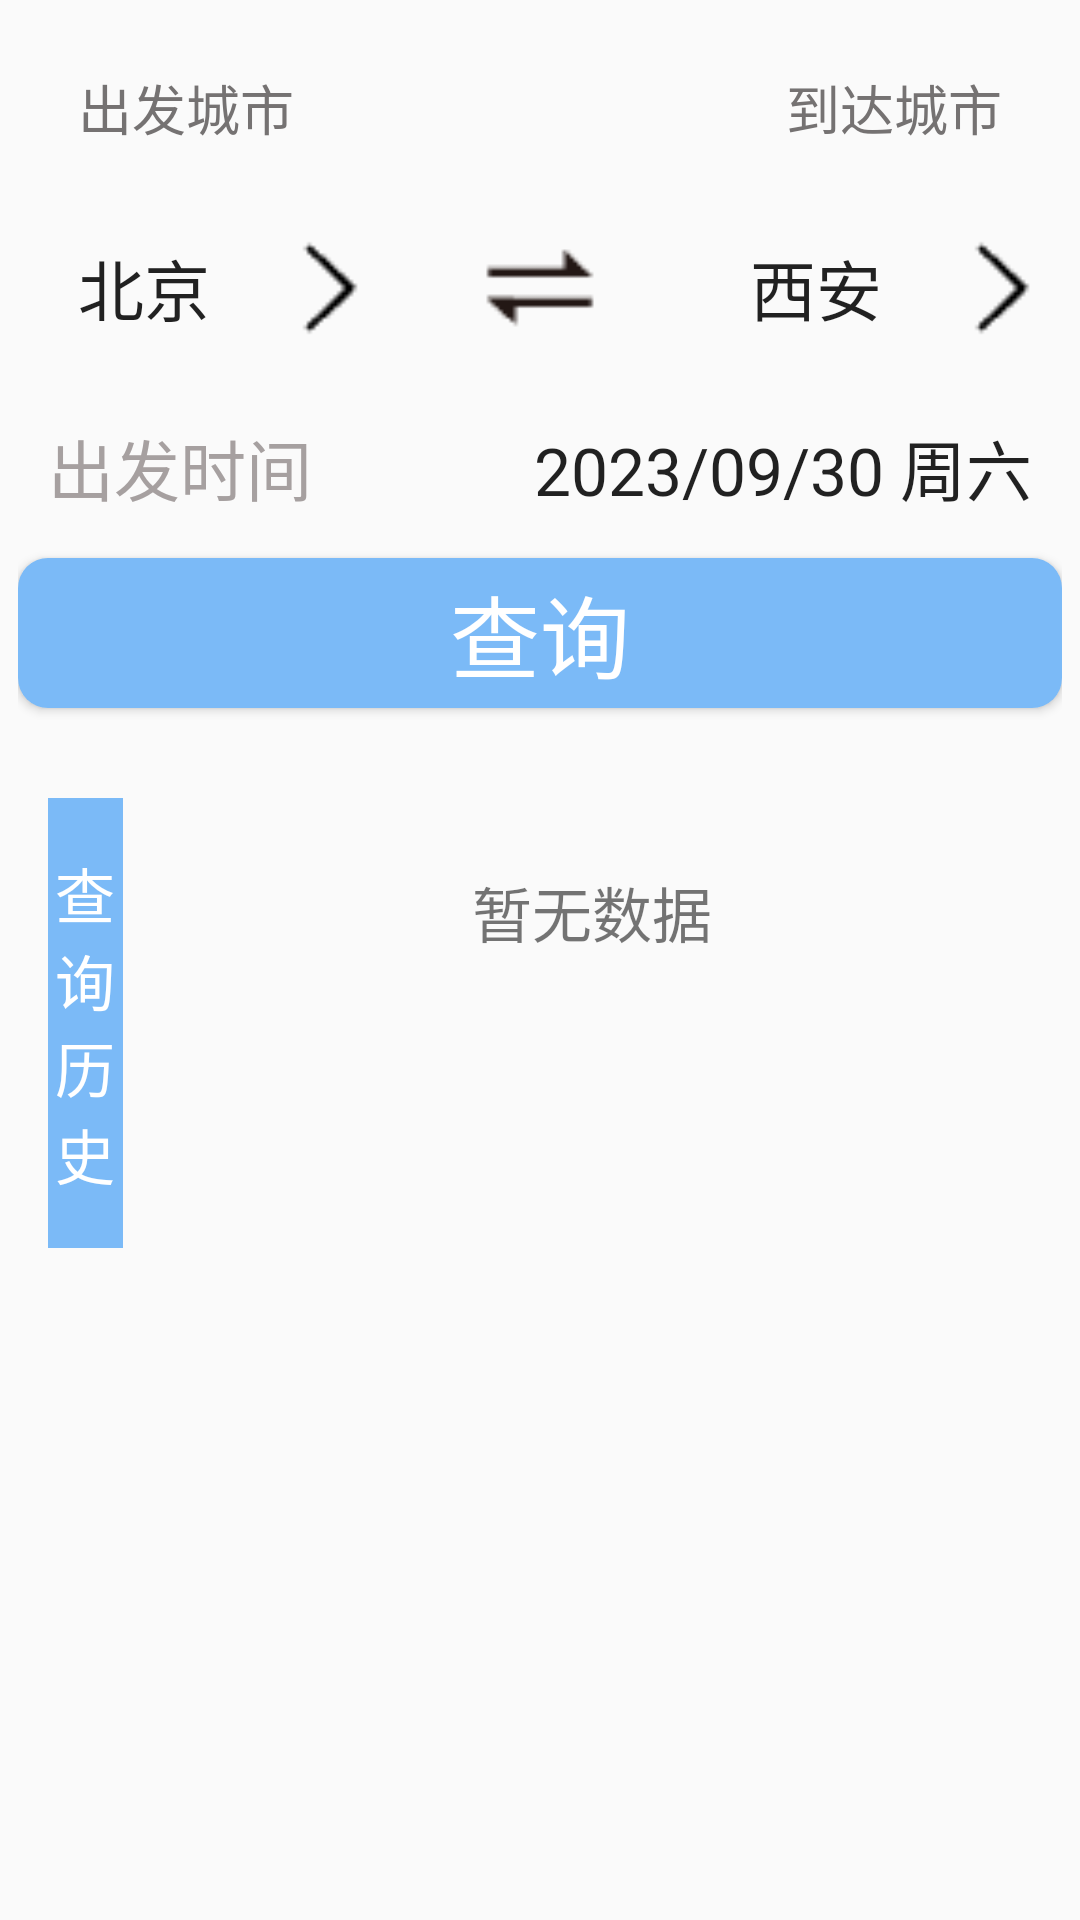

Icons on this 1080x1920 Android screen, each with the point to tap as point (x, y):
right: point (330, 288), point (1002, 288)
